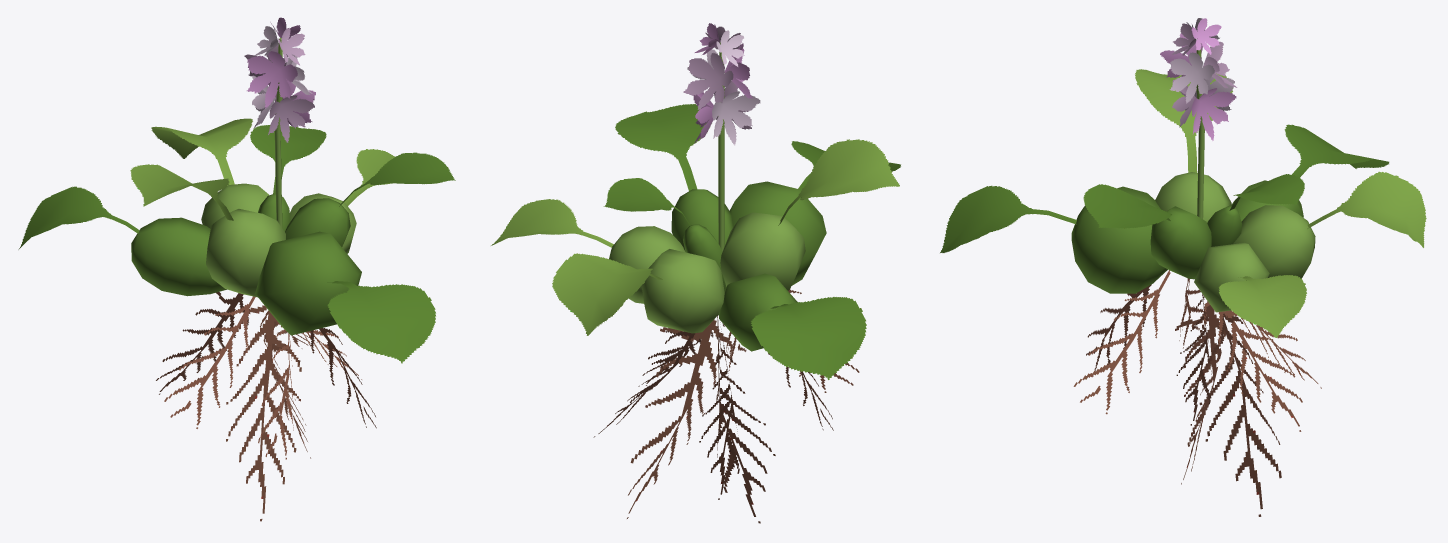
File: Water_Hyacinth_1.gltf
3 renders of one model, left to right at view 1: azimuth 30°, elevation 25°; view 2: azimuth 150°, elevation 25°; view 3: azimuth 270°, elevation 25°, orthographic. The views are drawn at different scales.
Visible parts, largest first — view 1: Water_Hyacinth_1; view 2: Water_Hyacinth_1; view 3: Water_Hyacinth_1.
Part boxes in pixels (<box>): Water_Hyacinth_1: <box>18,17,455,521</box>; Water_Hyacinth_1: <box>491,23,900,523</box>; Water_Hyacinth_1: <box>940,18,1426,516</box>.
Size of the model in its own units: 71.55 by 87.54 by 79.96.
Materials: 1 (1 with a texture image).
